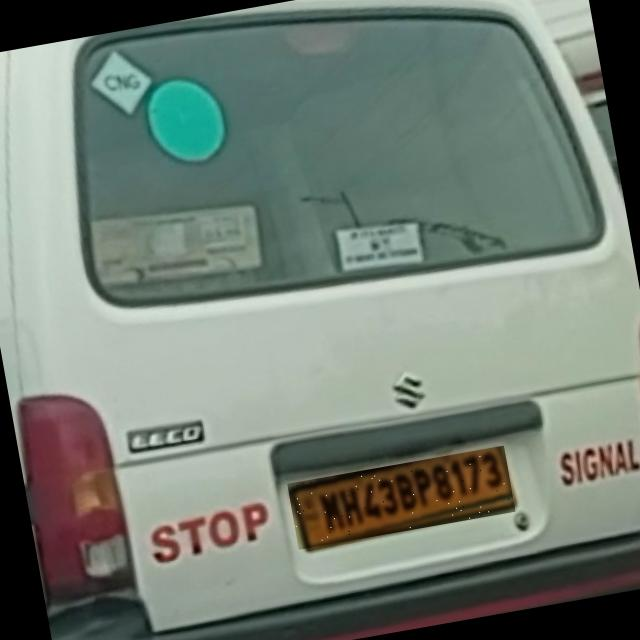Plate: (288, 446, 516, 550)
